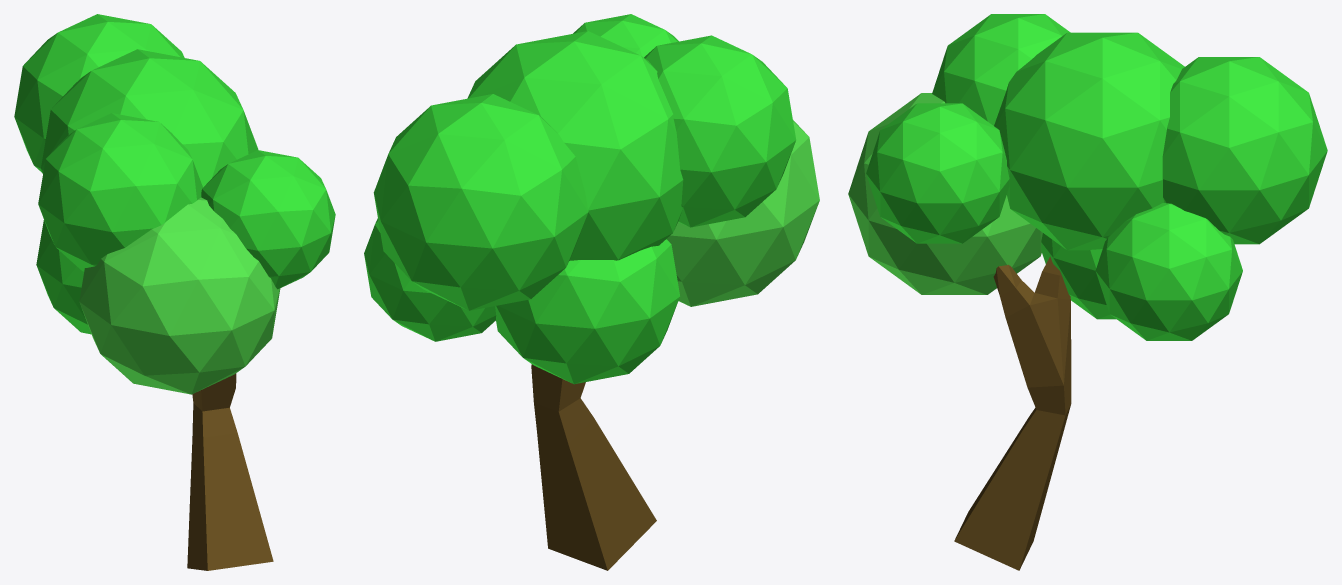
The model's file is tree.fbx.
3 renders of one model, left to right at view 1: azimuth 30°, elevation 25°; view 2: azimuth 150°, elevation 25°; view 3: azimuth 270°, elevation 25°, orthographic. The views are drawn at different scales.
Visible parts, largest first — view 1: Icosphere.006, Icosphere.002, Icosphere.001, Icosphere.003, Cube, Icosphere, Icosphere.005; view 2: Icosphere, Icosphere.001, Icosphere.002, Icosphere.005, Cube, Icosphere.006, Icosphere.004, Icosphere.003; view 3: Icosphere.001, Icosphere, Cube, Icosphere.003, Icosphere.004, Icosphere.006, Icosphere.002, Icosphere.005.
Boxes of the visible parts, x1,y1,x2,y2 form: Icosphere.006: (79,197,280,394); Icosphere.002: (38,113,202,271); Icosphere.001: (41,49,258,187); Icosphere.003: (201,150,335,289); Cube: (187,373,273,570); Icosphere: (14,14,184,172); Icosphere.005: (36,220,91,334); Icosphere: (373,94,588,310); Icosphere.001: (467,31,683,260); Icosphere.002: (644,35,796,227); Icosphere.005: (495,239,680,384); Cube: (531,364,656,570); Icosphere.006: (667,120,819,306); Icosphere.004: (364,218,496,341); Icosphere.003: (573,14,678,57); Icosphere.001: (994,32,1184,250); Icosphere: (1162,57,1327,244); Cube: (954,256,1071,570); Icosphere.003: (866,103,1009,243); Icosphere.004: (1095,203,1242,340); Icosphere.006: (848,93,1042,294); Icosphere.002: (932,14,1070,125); Icosphere.005: (1041,233,1116,319).
Bounding box in the file's own units: 487 × 337 × 562.
